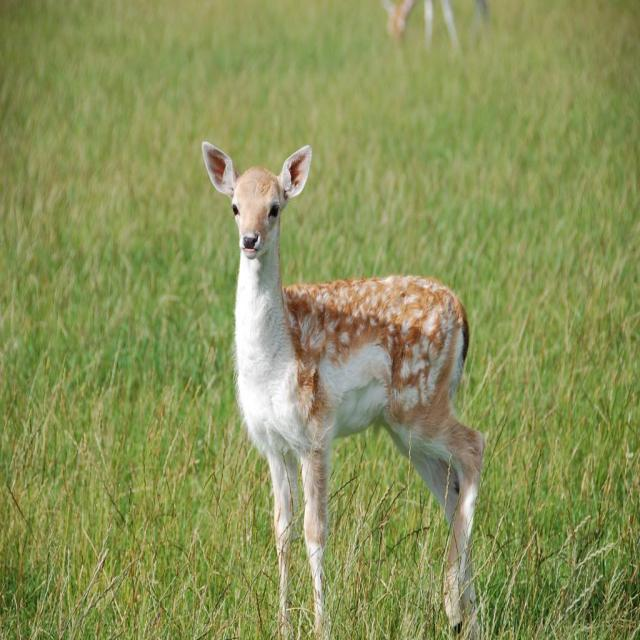Deer: (201, 144, 485, 640)
